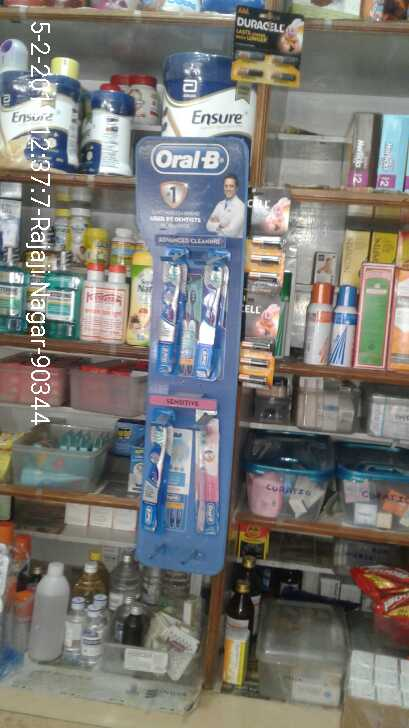oralb: (185, 259, 229, 382), (151, 255, 187, 368), (127, 399, 159, 526)
